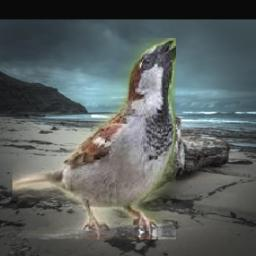Sparrow: (14, 38, 177, 239)
